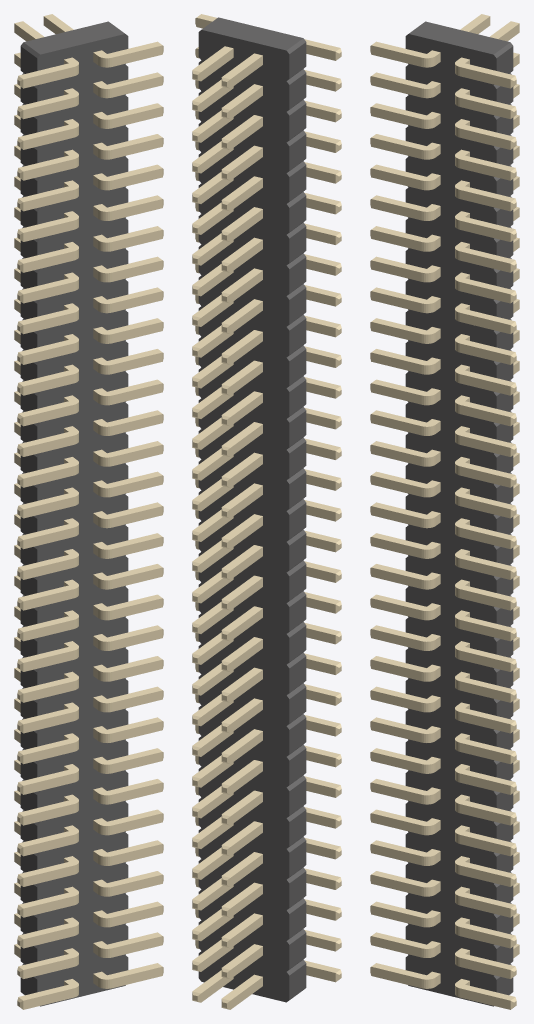
Rendered from PinHeader_2x31_P1.00mm_Vertical_SMD.glb.
3 views of the same model, side by side, from view 1: azimuth 30°, elevation 25°; view 2: azimuth 150°, elevation 25°; view 3: azimuth 330°, elevation 25° (orthographic).
Parts seen in each view (by area): view 1: Shape_IndexedFaceSet.003, Shape_IndexedFaceSet.001, Shape_IndexedFaceSet.964, Shape_IndexedFaceSet.689, Shape_IndexedFaceSet.714, Shape_IndexedFaceSet.874, Shape_IndexedFaceSet.959, Shape_IndexedFaceSet.989, Shape_IndexedFaceSet.994, Shape_IndexedFaceSet.869, Shape_IndexedFaceSet.739, Shape_IndexedFaceSet.759 (+115 smaller); view 2: Shape_IndexedFaceSet.004, Shape_IndexedFaceSet.001, Shape_IndexedFaceSet.025, Shape_IndexedFaceSet.127, Shape_IndexedFaceSet.151, Shape_IndexedFaceSet.169, Shape_IndexedFaceSet.007, Shape_IndexedFaceSet.019, Shape_IndexedFaceSet.043, Shape_IndexedFaceSet.067, Shape_IndexedFaceSet.085, Shape_IndexedFaceSet.109 (+21 smaller); view 3: Shape_IndexedFaceSet.003, Shape_IndexedFaceSet.001, Shape_IndexedFaceSet.959, Shape_IndexedFaceSet.689, Shape_IndexedFaceSet.714, Shape_IndexedFaceSet.869, Shape_IndexedFaceSet.964, Shape_IndexedFaceSet.989, Shape_IndexedFaceSet.994, Shape_IndexedFaceSet.874, Shape_IndexedFaceSet.719, Shape_IndexedFaceSet.754 (+115 smaller).
Boxes of the visible parts, x1,y1,x2,y2 form: Shape_IndexedFaceSet.003: (37,34,128,1006); Shape_IndexedFaceSet.001: (23,21,124,54); Shape_IndexedFaceSet.964: (112,352,162,373); Shape_IndexedFaceSet.689: (112,967,162,988); Shape_IndexedFaceSet.714: (23,988,73,1009); Shape_IndexedFaceSet.874: (112,659,162,680); Shape_IndexedFaceSet.959: (23,374,73,395); Shape_IndexedFaceSet.989: (112,45,162,66); Shape_IndexedFaceSet.994: (23,67,73,88); Shape_IndexedFaceSet.869: (23,681,73,702); Shape_IndexedFaceSet.739: (112,813,162,834); Shape_IndexedFaceSet.759: (112,782,162,803); Shape_IndexedFaceSet.004: (198,30,289,1002); Shape_IndexedFaceSet.001: (201,17,302,50); Shape_IndexedFaceSet.025: (289,134,306,170); Shape_IndexedFaceSet.127: (289,656,306,692); Shape_IndexedFaceSet.151: (289,779,306,815); Shape_IndexedFaceSet.169: (289,871,306,907); Shape_IndexedFaceSet.007: (289,42,306,78); Shape_IndexedFaceSet.019: (289,103,306,139); Shape_IndexedFaceSet.043: (289,226,306,262); Shape_IndexedFaceSet.067: (289,349,306,385); Shape_IndexedFaceSet.085: (289,441,306,477); Shape_IndexedFaceSet.109: (289,564,306,600); Shape_IndexedFaceSet.003: (405,34,496,1006); Shape_IndexedFaceSet.001: (409,21,510,54); Shape_IndexedFaceSet.959: (371,352,421,373); Shape_IndexedFaceSet.689: (460,988,510,1009); Shape_IndexedFaceSet.714: (371,967,421,988); Shape_IndexedFaceSet.869: (371,659,421,680); Shape_IndexedFaceSet.964: (460,374,510,395); Shape_IndexedFaceSet.989: (460,67,510,88); Shape_IndexedFaceSet.994: (371,45,421,66); Shape_IndexedFaceSet.874: (460,681,510,702); Shape_IndexedFaceSet.719: (371,813,421,834); Shape_IndexedFaceSet.754: (460,773,510,794).
Size of the model in its own units: 1.93 by 12.2 by 1.42.
